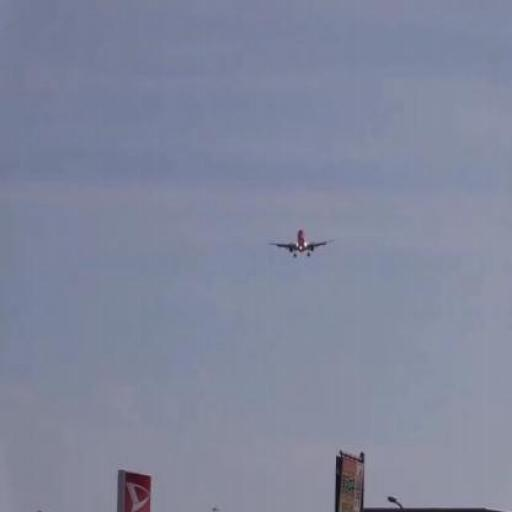aircraft: (267, 228, 331, 258)
